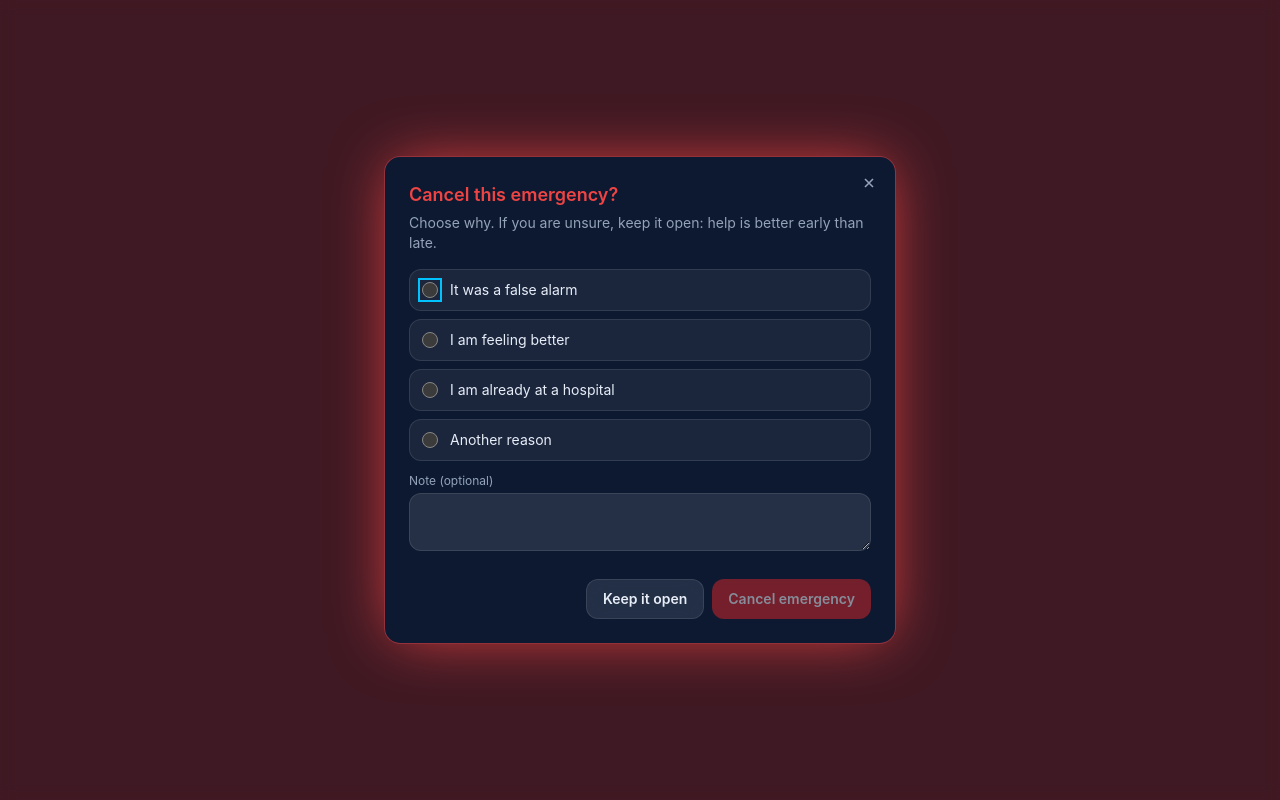
CancelDialog (feature 49) › shows why it failed and stays open
This screenshot has width=1280, height=800.
Click the radio button labelled "Another reason".
click(430, 440)  # box [422,432,438,448]
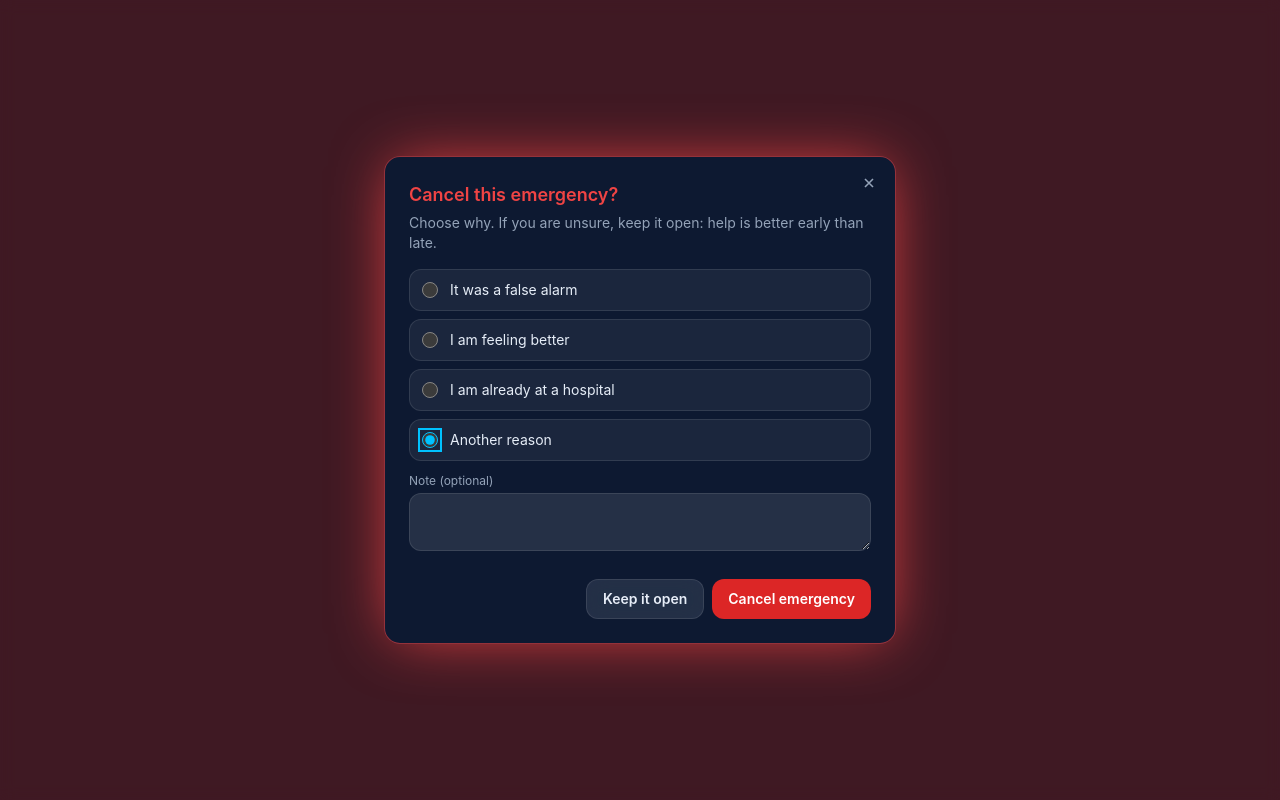
Click the button "Cancel emergency".
click(792, 599)  # box [712,579,871,619]
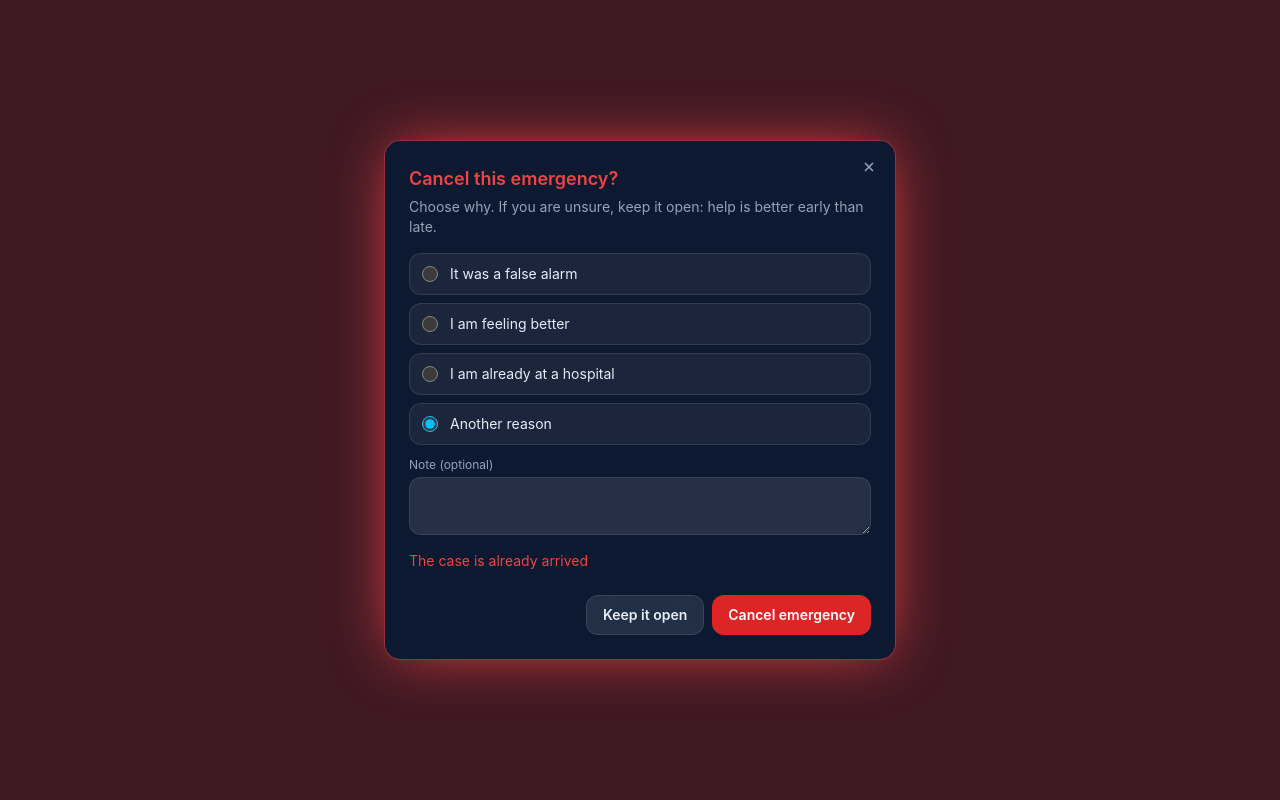
Now the message shows "already arrived", box [409,552,588,569]
